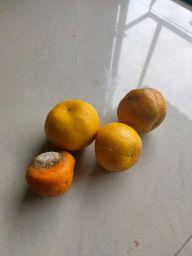orange: (44, 99, 101, 152), (117, 87, 169, 136), (95, 122, 143, 174), (25, 150, 77, 197)
